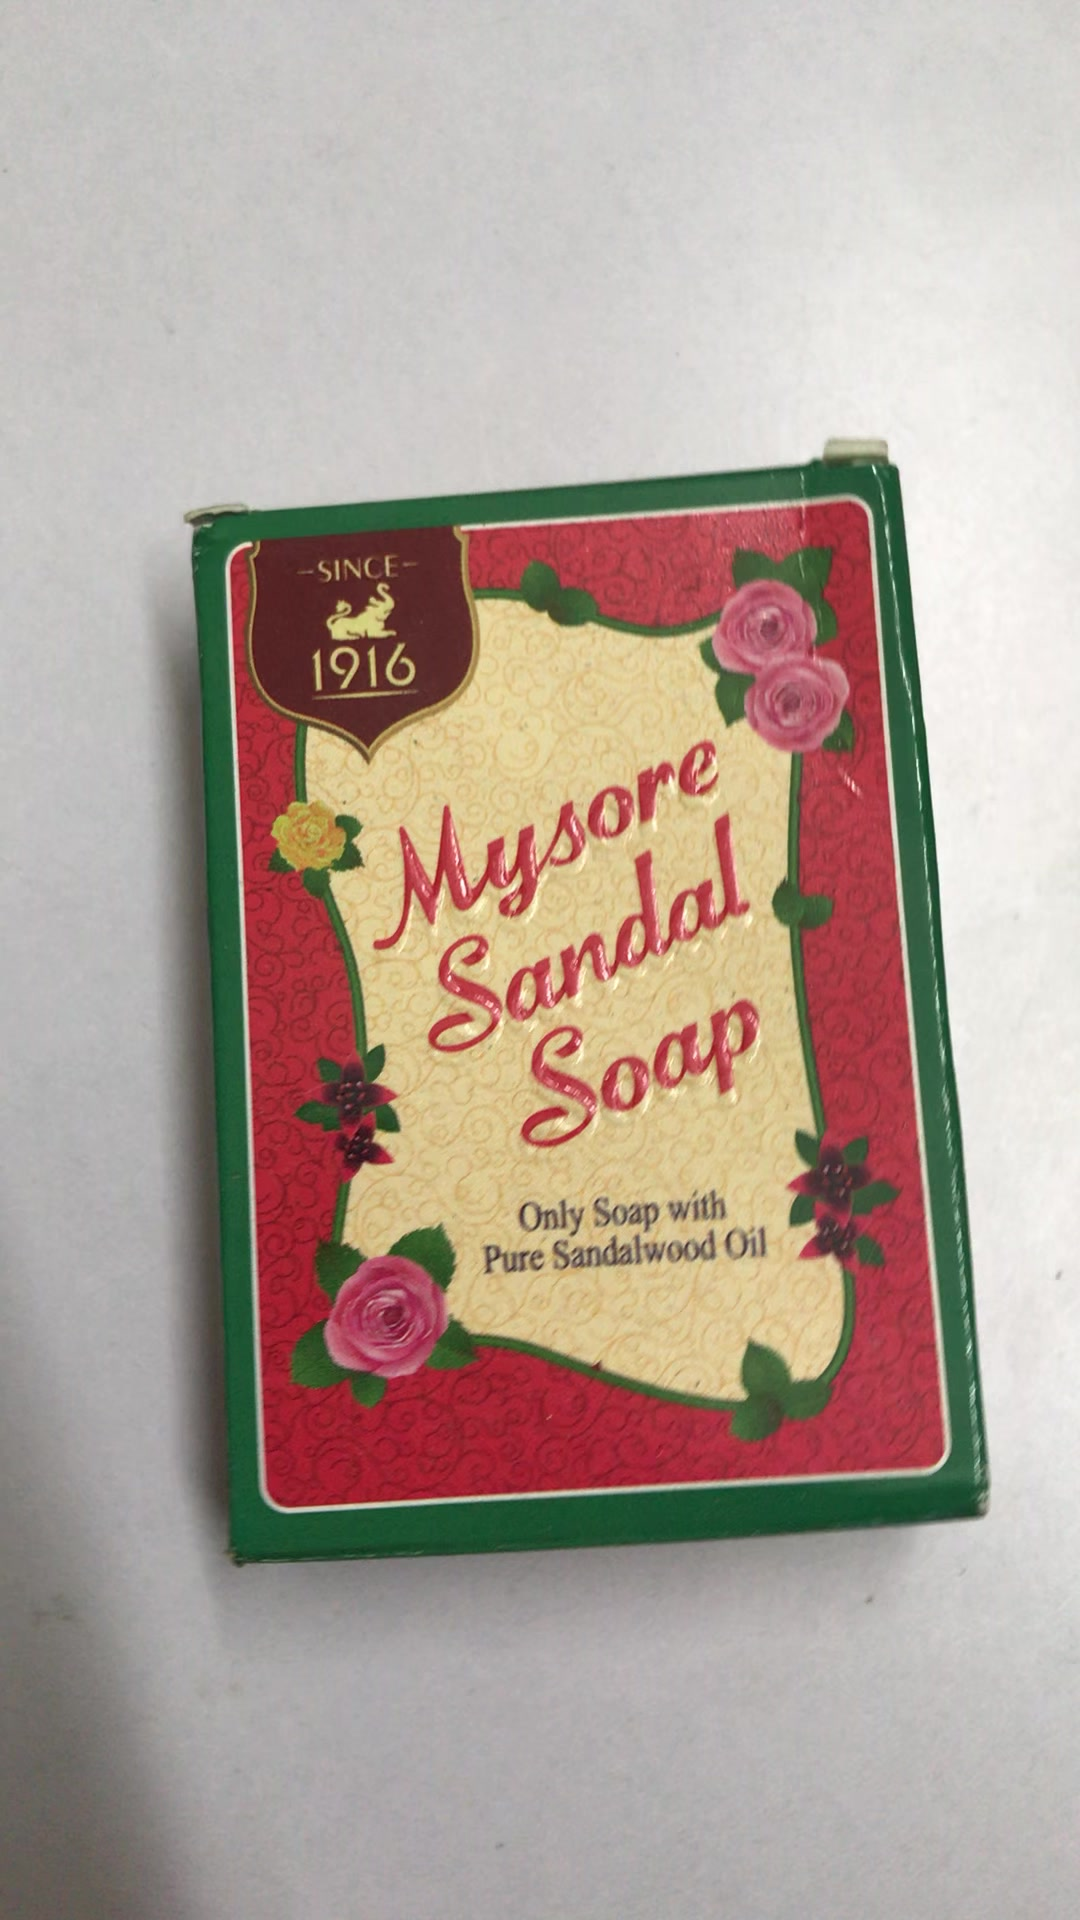mysore sandal soap: (196, 454, 984, 1563)
